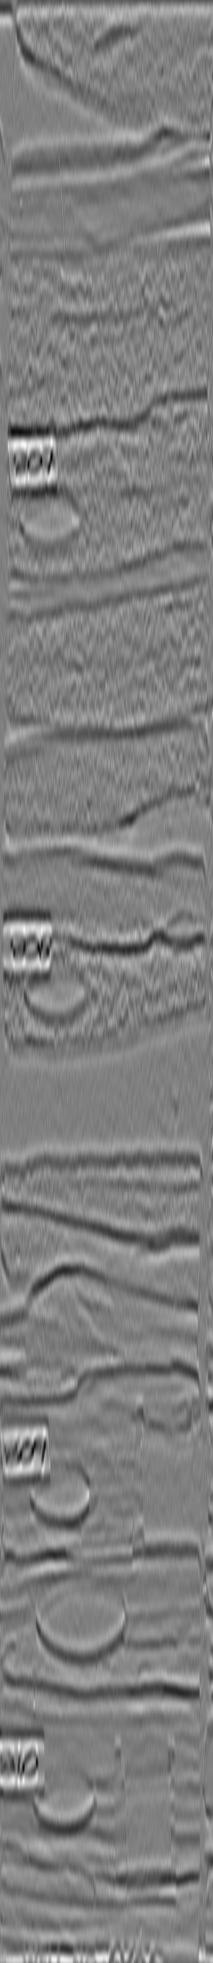hplug: (21, 1460, 103, 1537), (23, 1764, 105, 1837), (18, 958, 94, 1029), (15, 488, 86, 553)
scal: (33, 1572, 135, 1668)
vplug: (127, 1396, 205, 1566), (109, 1739, 185, 1895), (98, 414, 175, 562)
